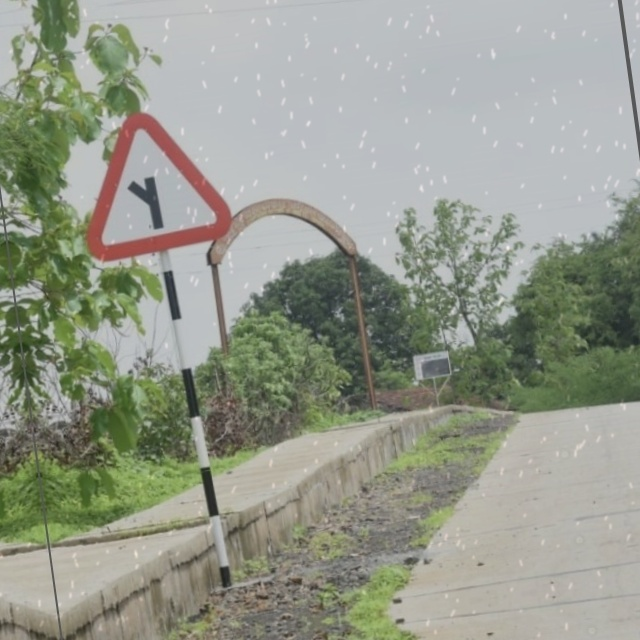Y_Intersection: (82, 105, 232, 254)
